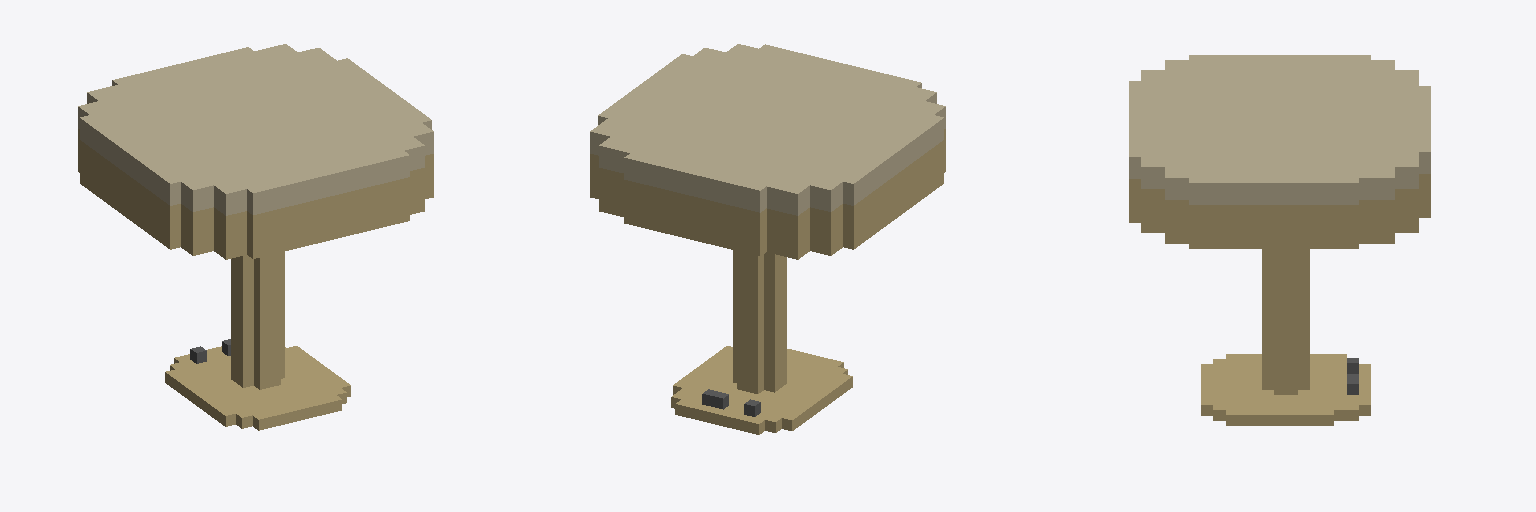
3 renders of one model, left to right at view 1: azimuth 30°, elevation 25°; view 2: azimuth 150°, elevation 25°; view 3: azimuth 270°, elevation 25°, orthographic.
Visible parts, largest first — view 1: object 1; view 2: object 1; view 3: object 1.
Part boxes in pixels (x1,y1,x2,y2): object 1: (78,44,433,430); object 1: (590,44,945,434); object 1: (1129,55,1430,425).
Size of the model in its own units: 2.5 by 2.5 by 2.5.
1 materials, 1 textured.